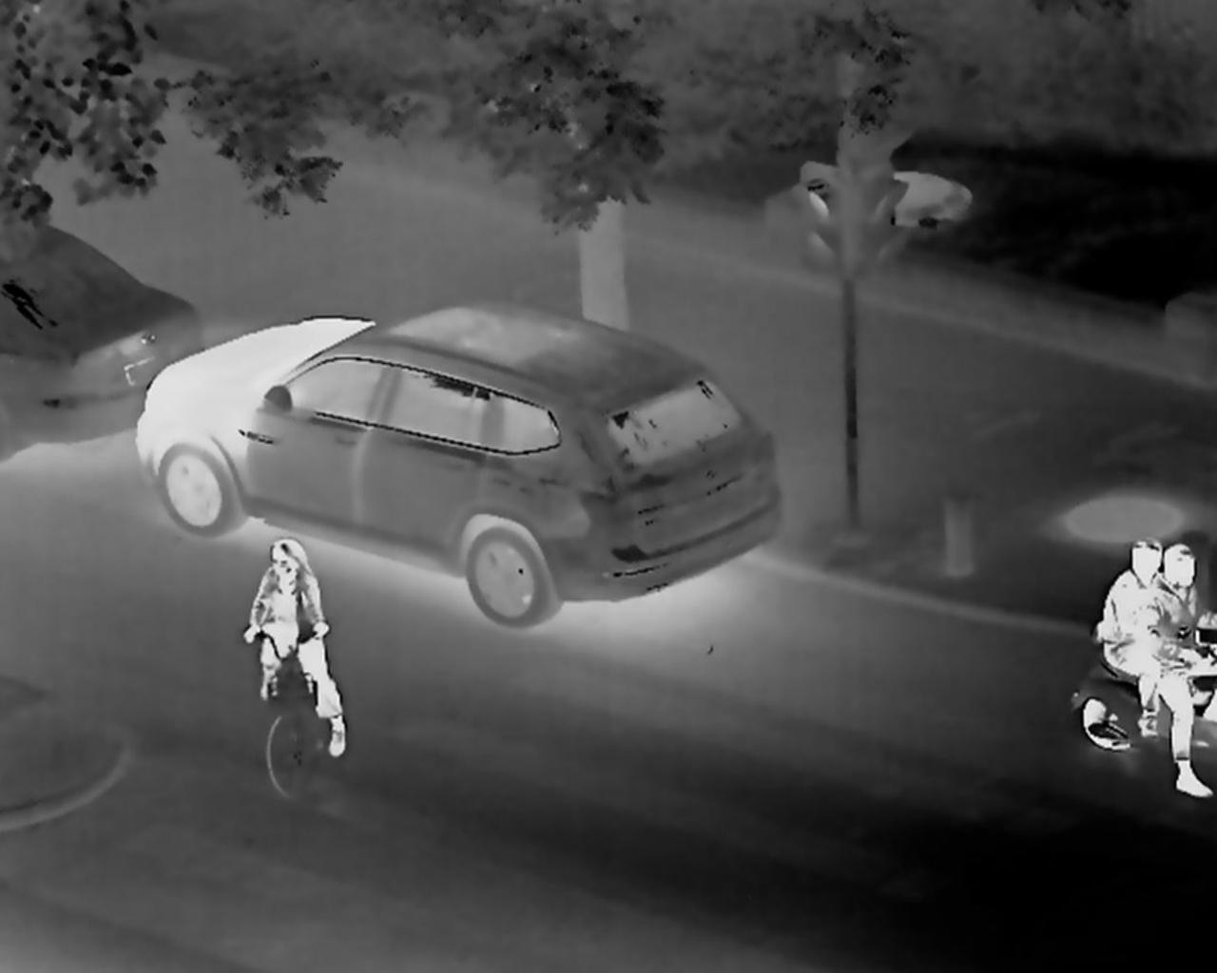person: (1120, 544, 1217, 798), (240, 536, 348, 760), (1091, 536, 1165, 740)
